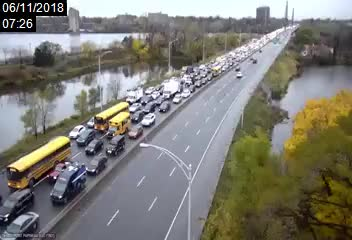congestion: (1, 126, 111, 236), (81, 96, 159, 139), (137, 77, 195, 105), (176, 62, 222, 85), (207, 51, 240, 68)
personal_car: (1, 208, 42, 240), (53, 167, 86, 206), (1, 185, 36, 221), (48, 160, 74, 183), (85, 155, 110, 174), (106, 135, 127, 156), (84, 139, 105, 155), (128, 124, 144, 139), (78, 128, 93, 144), (70, 125, 84, 141), (131, 109, 145, 123), (143, 112, 155, 128), (145, 102, 157, 114), (128, 102, 142, 112), (160, 101, 171, 113), (172, 93, 183, 104), (155, 97, 167, 106), (150, 92, 161, 100), (146, 86, 154, 97), (181, 89, 190, 97), (185, 77, 193, 85), (194, 79, 201, 87), (188, 85, 195, 91), (200, 72, 206, 78), (205, 75, 212, 80)
school_bus: (7, 137, 74, 188), (94, 102, 130, 129)
truck: (107, 112, 132, 137), (162, 82, 179, 101), (127, 88, 143, 104), (181, 66, 193, 77)
